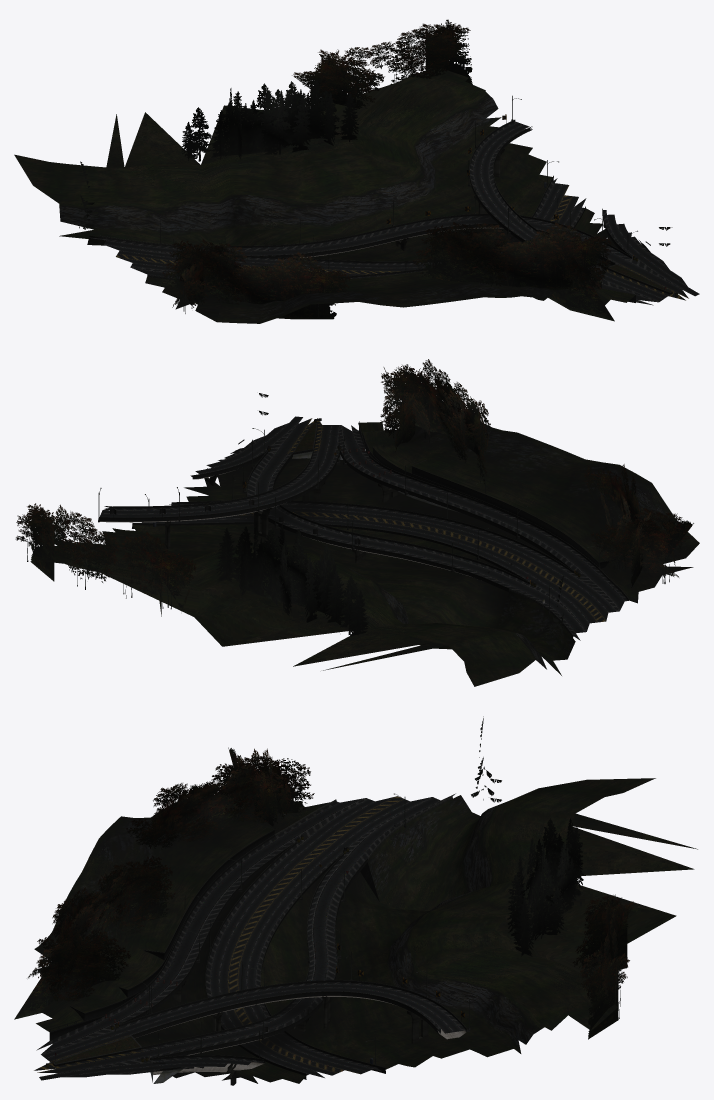
The model's file is cell_4_-7.gltf.
3 views of the same model, one above another, from view 1: azimuth 30°, elevation 25°; view 2: azimuth 150°, elevation 25°; view 3: azimuth 270°, elevation 25° (orthographic). The views are drawn at different scales.
Parts seen in each view (by area): view 1: cell_4_-7; view 2: cell_4_-7; view 3: cell_4_-7.
Boxes of the visible parts, box(x1,y1,x2,y2) form: cell_4_-7: box(14, 19, 699, 323); cell_4_-7: box(15, 359, 699, 686); cell_4_-7: box(14, 716, 697, 1085).
Size of the model in its own units: 274 by 68.94 by 305.
Materials: 40 (40 with a texture image).
